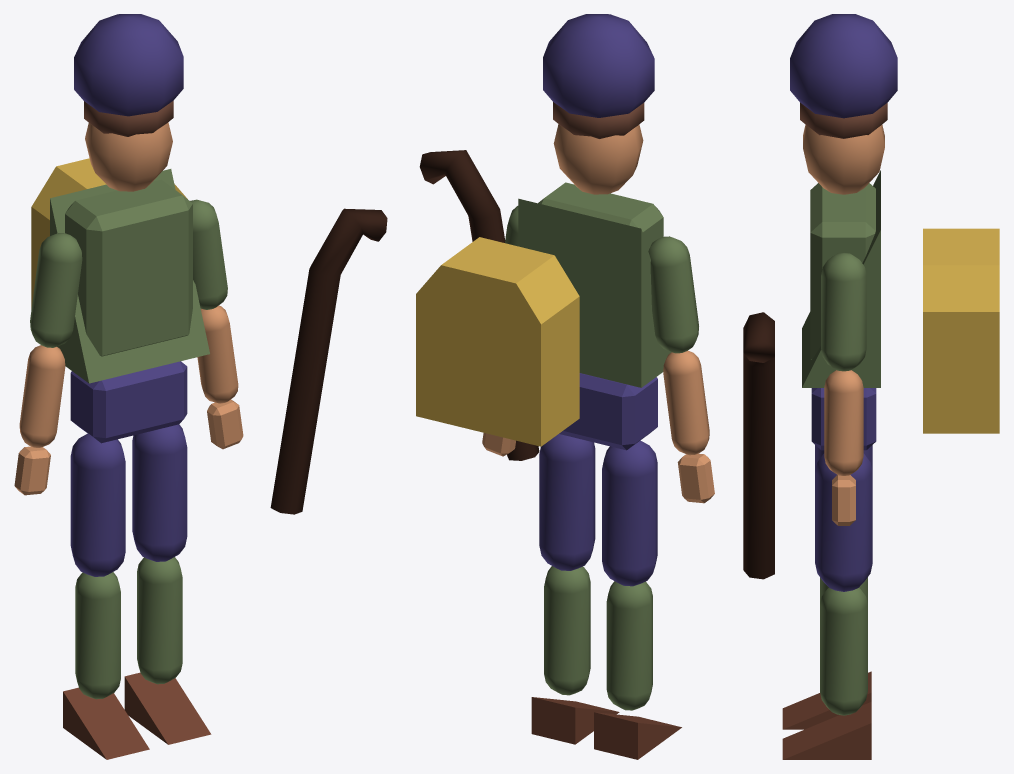
Rendered from adventurer.rustic.glb.
3 renders of one model, left to right at view 1: azimuth 30°, elevation 25°; view 2: azimuth 150°, elevation 25°; view 3: azimuth 270°, elevation 25°, orthographic.
Parts seen in each view (by area): view 1: torso, accessory.main-hand, accessory.head, thigh.left, pelvis, thigh.right, tunic, shin.left, shin.right, upper-arm.left, head, foot.right (+8 smaller); view 2: accessory.back, tunic, accessory.head, thigh.left, thigh.right, shin.left, shin.right, pelvis, upper-arm.left, head, accessory.main-hand, forearm.left (+6 smaller); view 3: accessory.back, accessory.head, accessory.main-hand, shin.right, thigh.right, torso, upper-arm.right, head, tunic, forearm.right, foot.right, hair (+3 smaller).
Part boxes in pixels (bbox=[...]): torso: bbox=[65, 179, 192, 356]; accessory.main-hand: bbox=[270, 208, 387, 514]; accessory.head: bbox=[74, 14, 183, 116]; thigh.left: bbox=[70, 433, 125, 576]; pelvis: bbox=[70, 361, 187, 443]; thigh.right: bbox=[132, 424, 187, 561]; tunic: bbox=[50, 169, 209, 383]; shin.left: bbox=[75, 572, 120, 699]; shin.right: bbox=[137, 557, 182, 684]; upper-arm.left: bbox=[30, 233, 82, 347]; head: bbox=[85, 122, 172, 191]; foot.right: bbox=[124, 672, 211, 744]; accessory.back: bbox=[416, 237, 579, 446]; tunic: bbox=[518, 198, 671, 387]; accessory.head: bbox=[543, 14, 654, 117]; thigh.left: bbox=[602, 440, 657, 586]; thigh.right: bbox=[539, 434, 595, 570]; shin.left: bbox=[606, 581, 652, 710]; shin.right: bbox=[544, 566, 590, 695]; pelvis: bbox=[559, 373, 657, 450]; upper-arm.left: bbox=[648, 236, 698, 353]; head: bbox=[553, 124, 643, 194]; accessory.main-hand: bbox=[419, 150, 539, 460]; forearm.left: bbox=[663, 350, 709, 455]; accessory.back: bbox=[923, 228, 999, 433]; accessory.head: bbox=[790, 14, 897, 118]; accessory.main-hand: bbox=[743, 312, 774, 579]; shin.right: bbox=[820, 588, 867, 715]; thigh.right: bbox=[815, 453, 872, 591]; torso: bbox=[810, 183, 875, 359]; upper-arm.right: bbox=[821, 252, 866, 371]; head: bbox=[803, 124, 884, 194]; tunic: bbox=[802, 170, 880, 387]; forearm.right: bbox=[824, 370, 863, 475]; foot.right: bbox=[782, 702, 871, 759]; hair: bbox=[800, 102, 887, 138].
Size of the model in its own units: 1.58 by 3.29 by 1.07.
